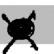not correct: (0, 9, 40, 54)
